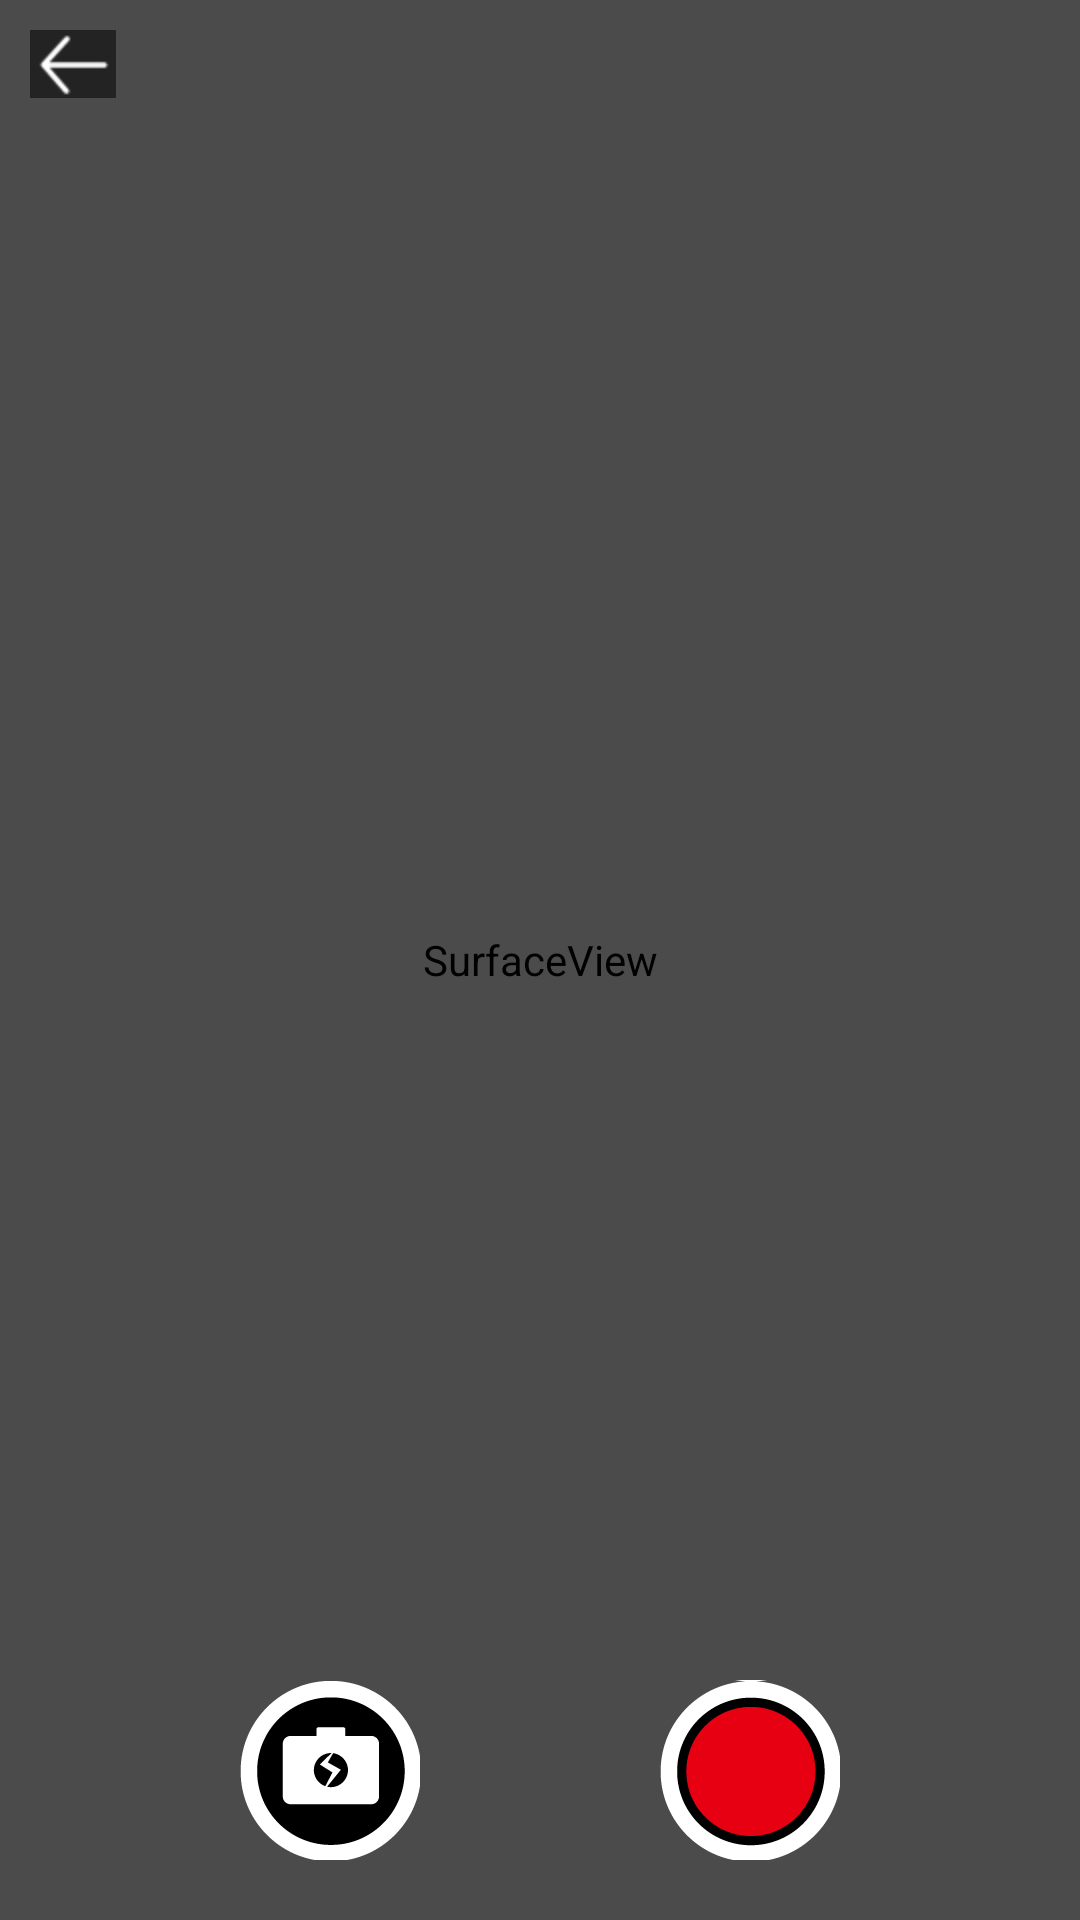

Named icons in this screenshot (1080*1920) and their centers, (x,y):
back: (73,64)
real time record: (750,1770)
take photo: (330,1770)
